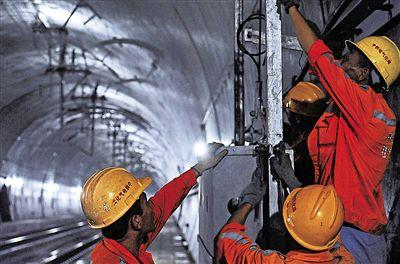gloves: (227, 166, 267, 215), (270, 142, 302, 190), (191, 142, 228, 177), (280, 1, 300, 13)
hard-hat: (80, 167, 152, 228), (282, 184, 345, 251), (345, 34, 400, 88)
person: (278, 1, 400, 264), (80, 140, 228, 263), (213, 150, 356, 264)
ppe-suit: (304, 37, 394, 251)
